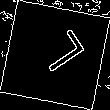L_SW: (25, 28, 85, 82)
